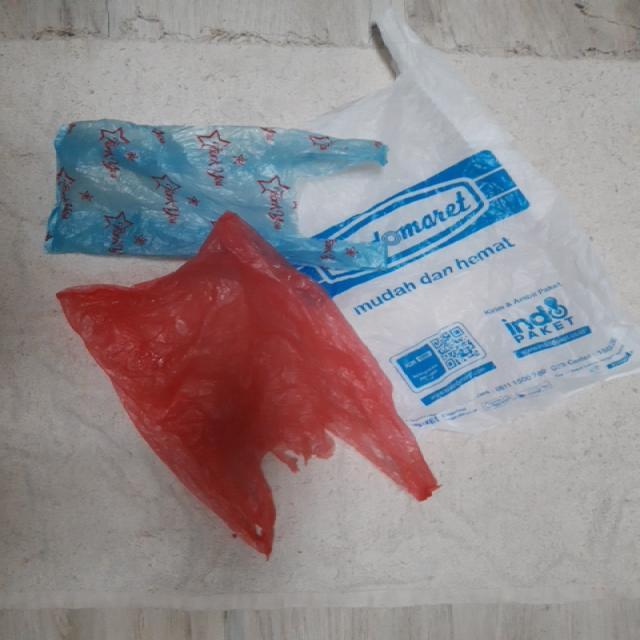Single-layer Plastic: (296, 12, 640, 431), (58, 212, 438, 554), (45, 119, 389, 272)
